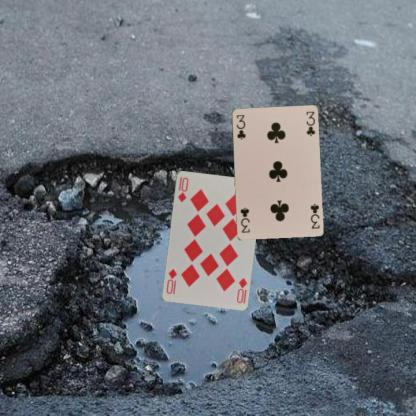10d: (175, 174, 190, 204), (234, 275, 248, 305)
3c: (307, 201, 321, 230), (234, 112, 247, 140)
